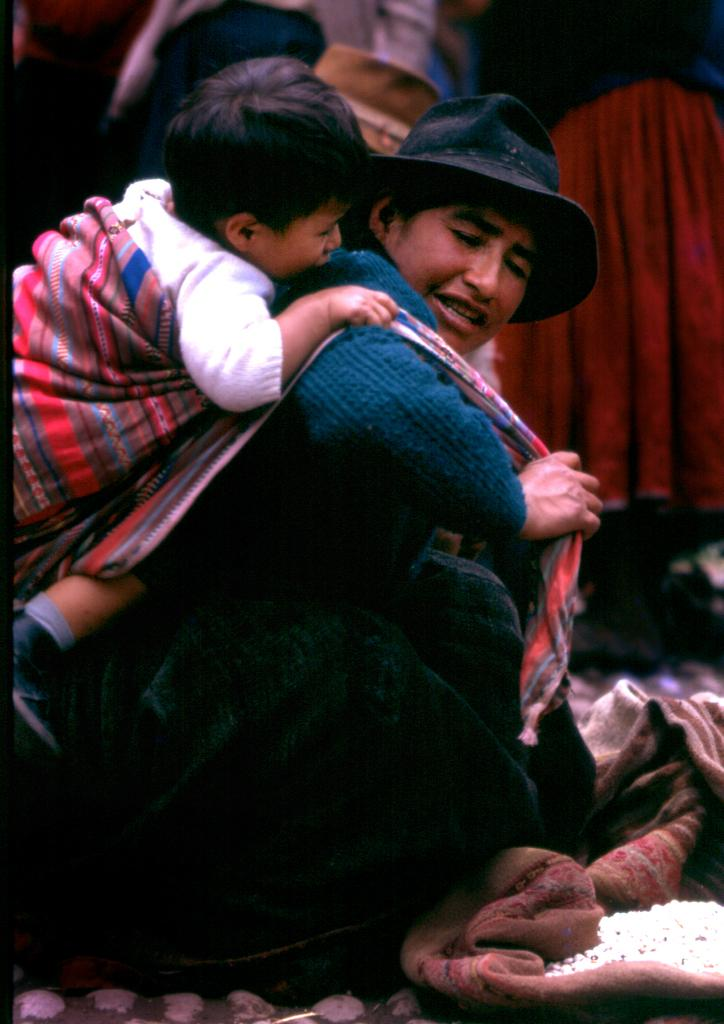Hat: (358, 96, 595, 330)
